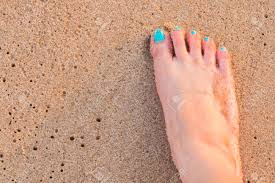Feet: (148, 25, 243, 183)
